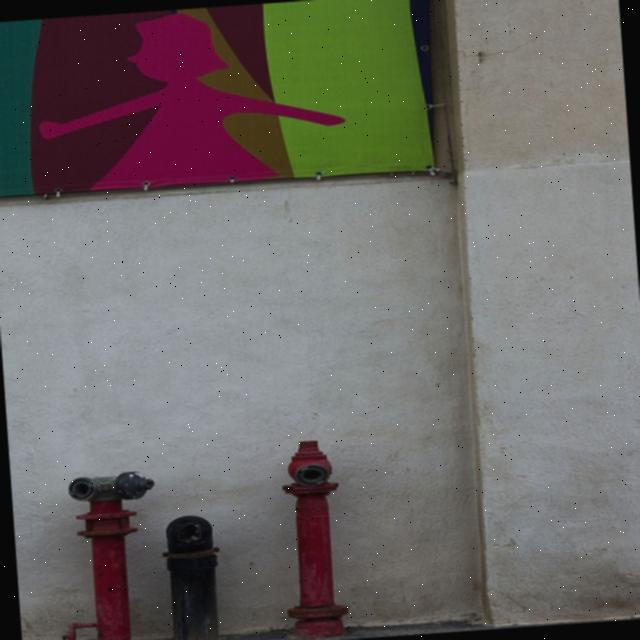fire_hydrant: (46, 471, 163, 640), (274, 438, 349, 640), (163, 511, 221, 640)
